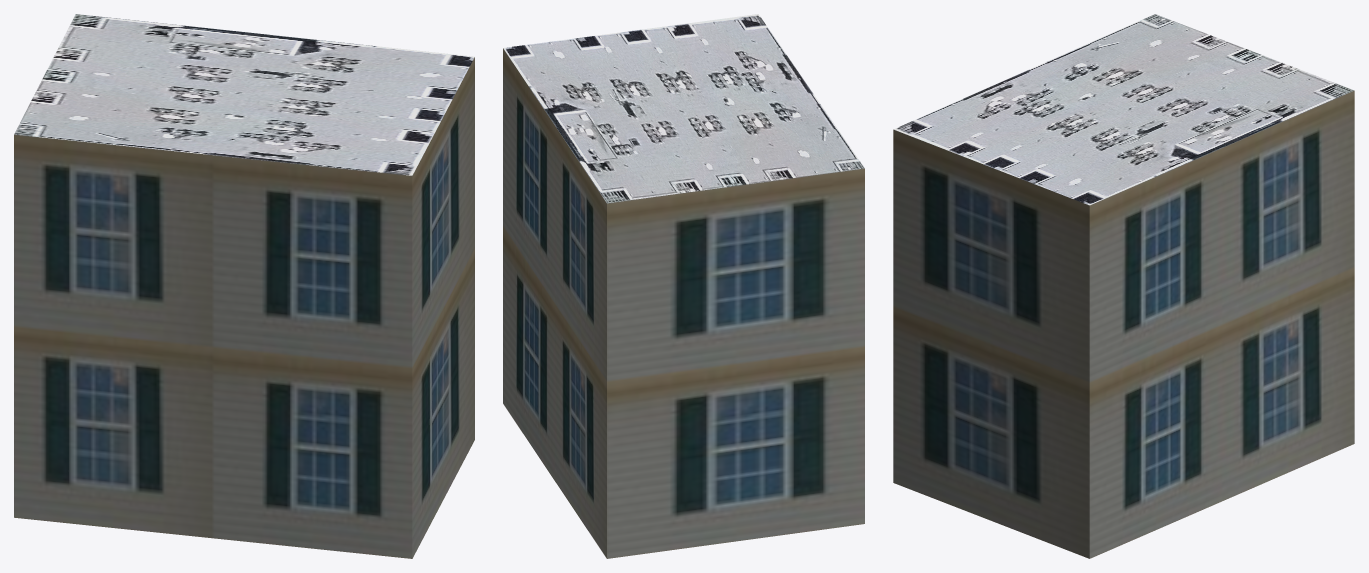
Rendered from ResTex__71.fbx.
The picture shows the model from 3 angles, left to right: view 1: azimuth 30°, elevation 25°; view 2: azimuth 150°, elevation 25°; view 3: azimuth 270°, elevation 25°; orthographic projection. The views are drawn at different scales.
Parts seen in each view (by area): view 1: CityEngineMaterial_7_m, CityEngineMaterial_8_m; view 2: CityEngineMaterial_7_m, CityEngineMaterial_8_m; view 3: CityEngineMaterial_7_m, CityEngineMaterial_8_m.
Part boxes in pixels (x1,y1,x2,y2): CityEngineMaterial_7_m: (14, 57, 474, 558); CityEngineMaterial_8_m: (14, 14, 474, 175); CityEngineMaterial_7_m: (503, 48, 864, 558); CityEngineMaterial_8_m: (503, 14, 864, 203); CityEngineMaterial_7_m: (893, 90, 1354, 558); CityEngineMaterial_8_m: (893, 14, 1354, 205).
Bounding box in the file's own units: 6.97 × 6 × 7.1.
Materials: 2 (2 with a texture image).
